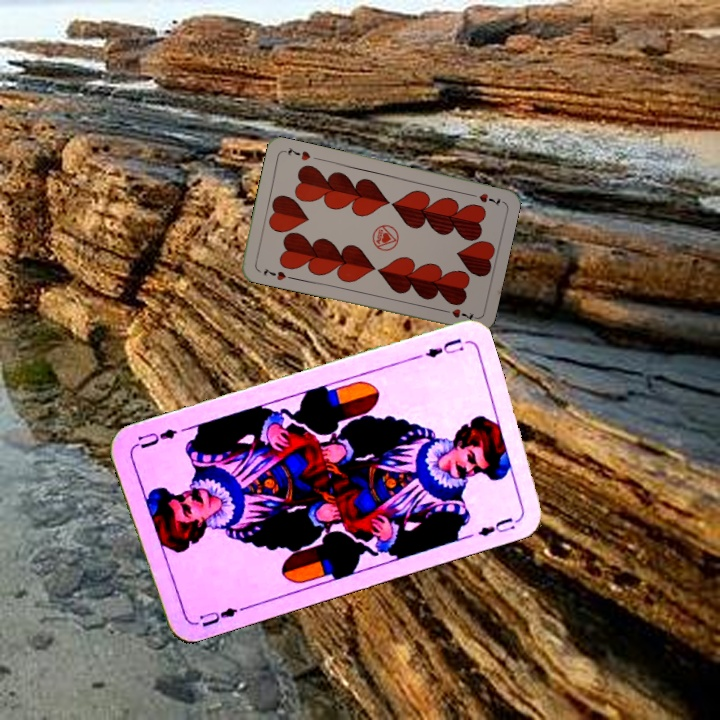EU: (421, 334, 467, 361), (195, 603, 240, 630)
H7: (465, 189, 505, 208), (259, 264, 288, 283)
